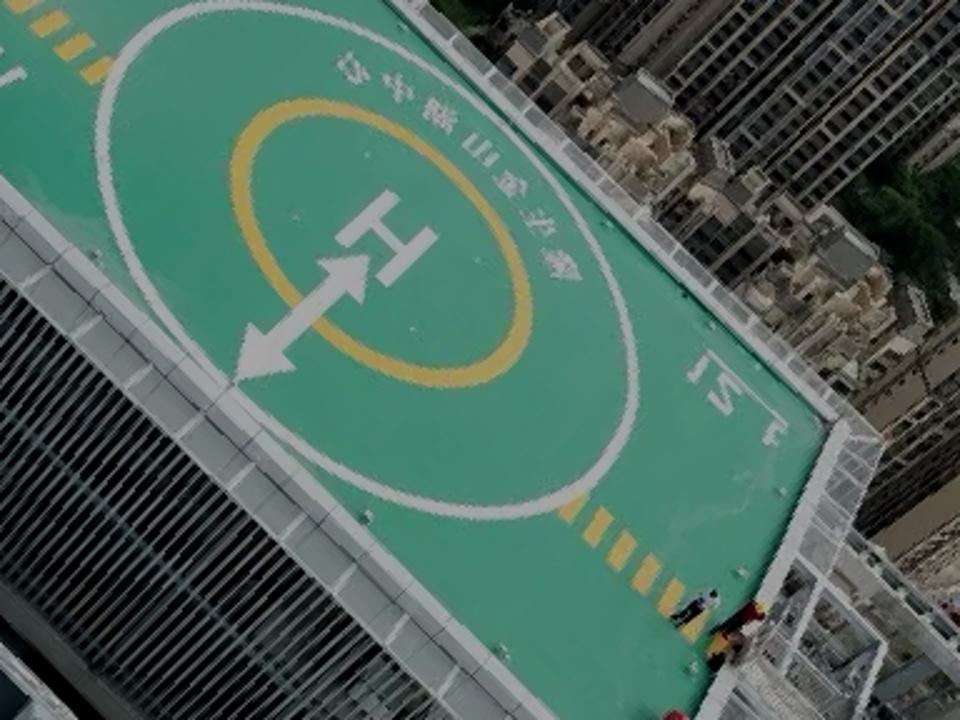Apron: (224, 96, 545, 401)
